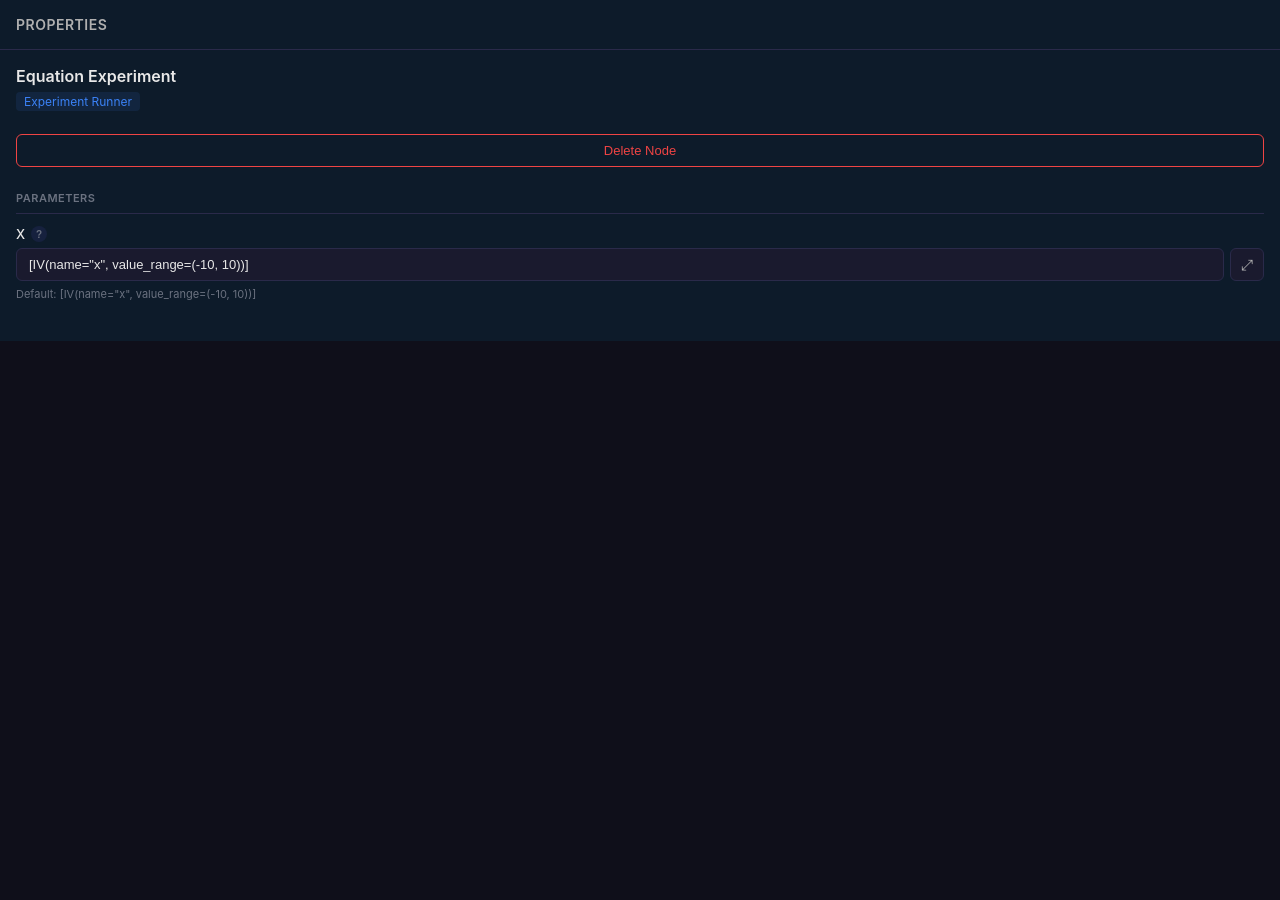
Test: PropertiesPanel IV/DV expression editor › offers an expand button and no modal until it is clicked
Click the button named "Open a larger editor for X": [1247, 264] box left=1230, top=248, right=1264, bottom=281
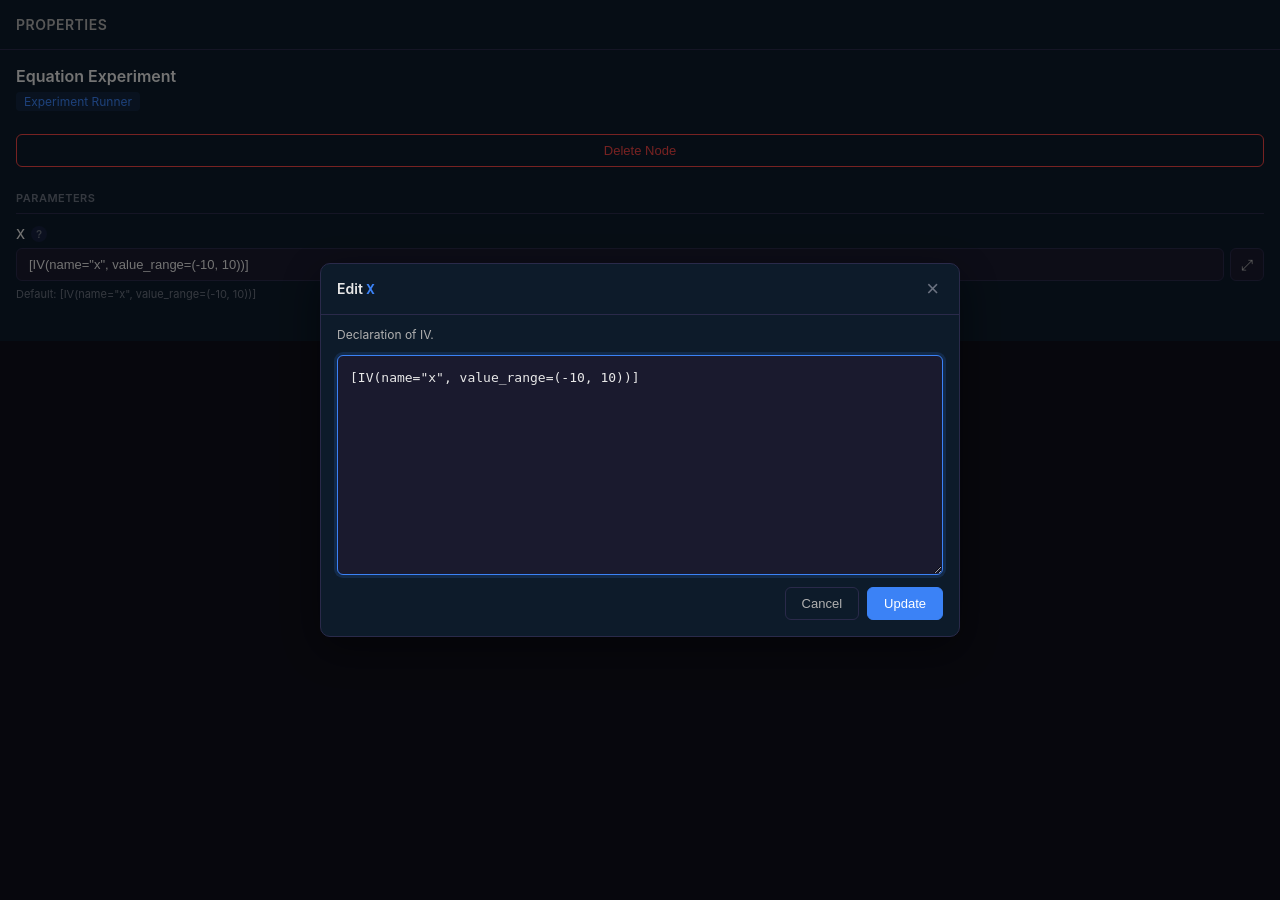
Expected: the dialog is shown, left=320, top=263, right=960, bottom=637
Expected: the text box holds "[IV(name=\"x\", value_range=(-10, 10))]", left=337, top=355, right=943, bottom=575
